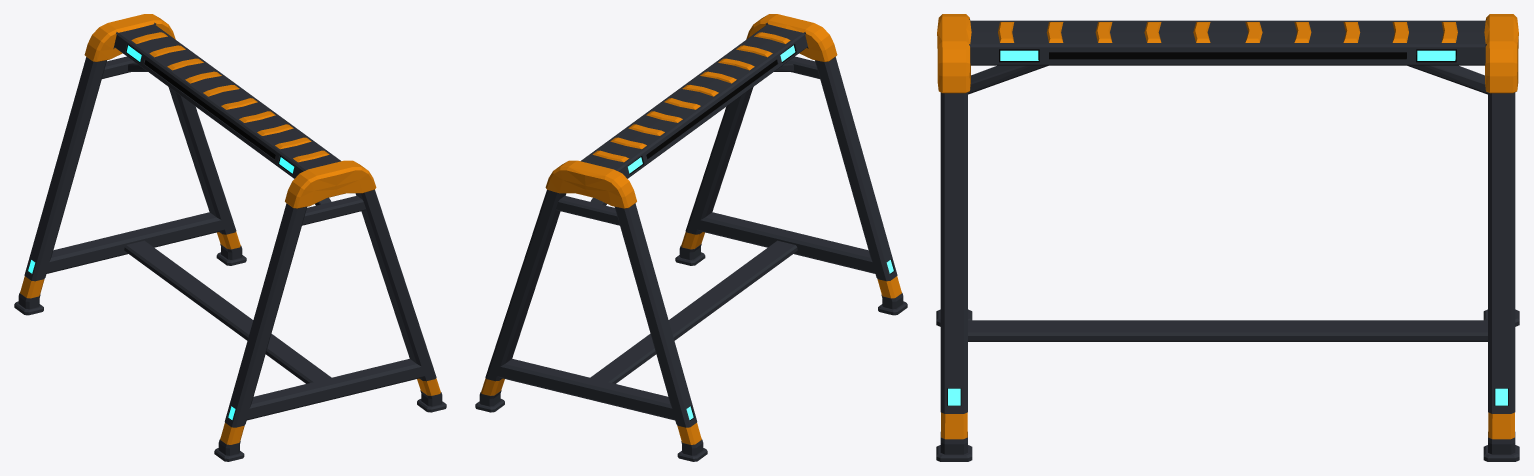
The model's file is SM_Safety_Barrier.fbx.
The picture shows the model from 3 angles, left to right: view 1: azimuth 30°, elevation 25°; view 2: azimuth 150°, elevation 25°; view 3: azimuth 270°, elevation 25°; orthographic projection. The views are drawn at different scales.
Visible parts, largest first — view 1: SM_Safety_Barrier; view 2: SM_Safety_Barrier; view 3: SM_Safety_Barrier.
Boxes of the visible parts, box(x1,y1,x2,y2) form: SM_Safety_Barrier: box(14, 14, 446, 461); SM_Safety_Barrier: box(475, 14, 907, 461); SM_Safety_Barrier: box(936, 14, 1519, 461).
Size of the model in its own units: 103 by 116 by 171.
